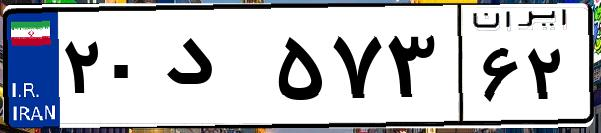0: (110, 28, 158, 98)
2: (57, 26, 110, 100), (525, 38, 570, 115)
3: (385, 28, 445, 110)
5: (270, 28, 330, 110)
6: (475, 38, 525, 113)
7: (330, 28, 385, 110)
د: (158, 20, 270, 120)
